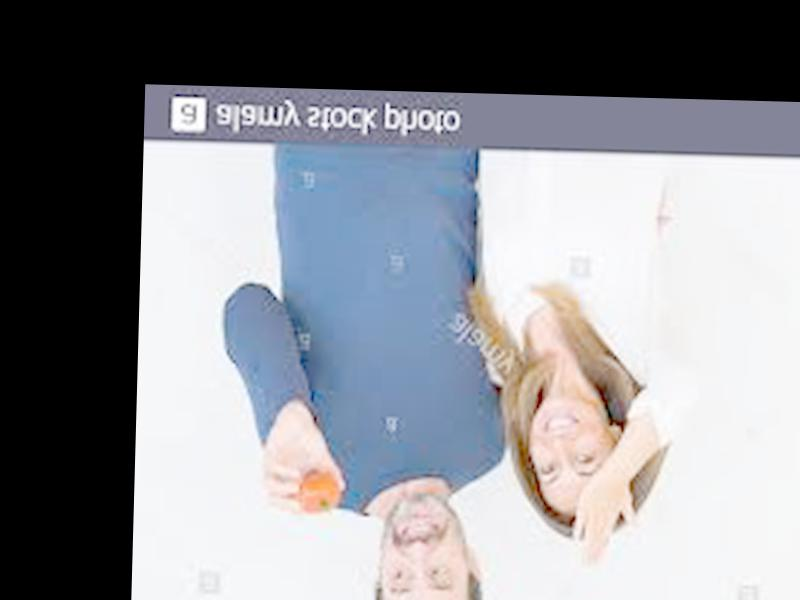Tomato: (298, 473, 339, 518)
